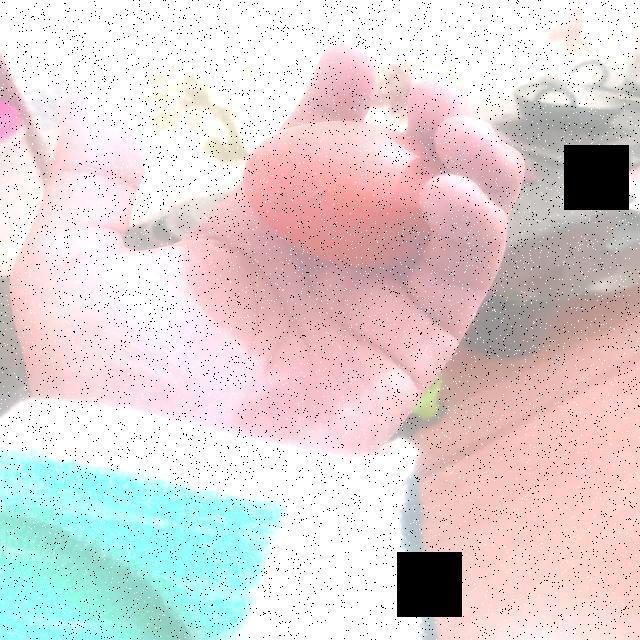egg: (247, 122, 450, 269)
